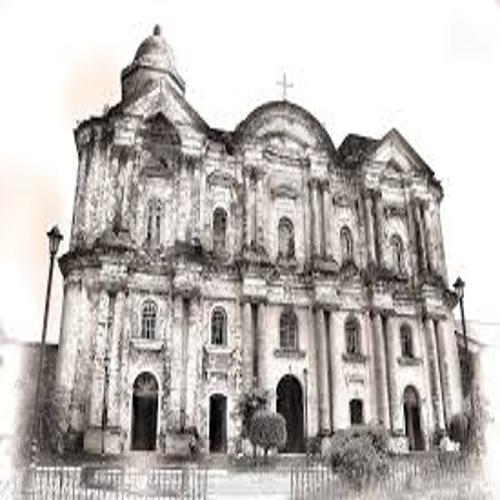Taal Basilica Church: (51, 18, 469, 460)
